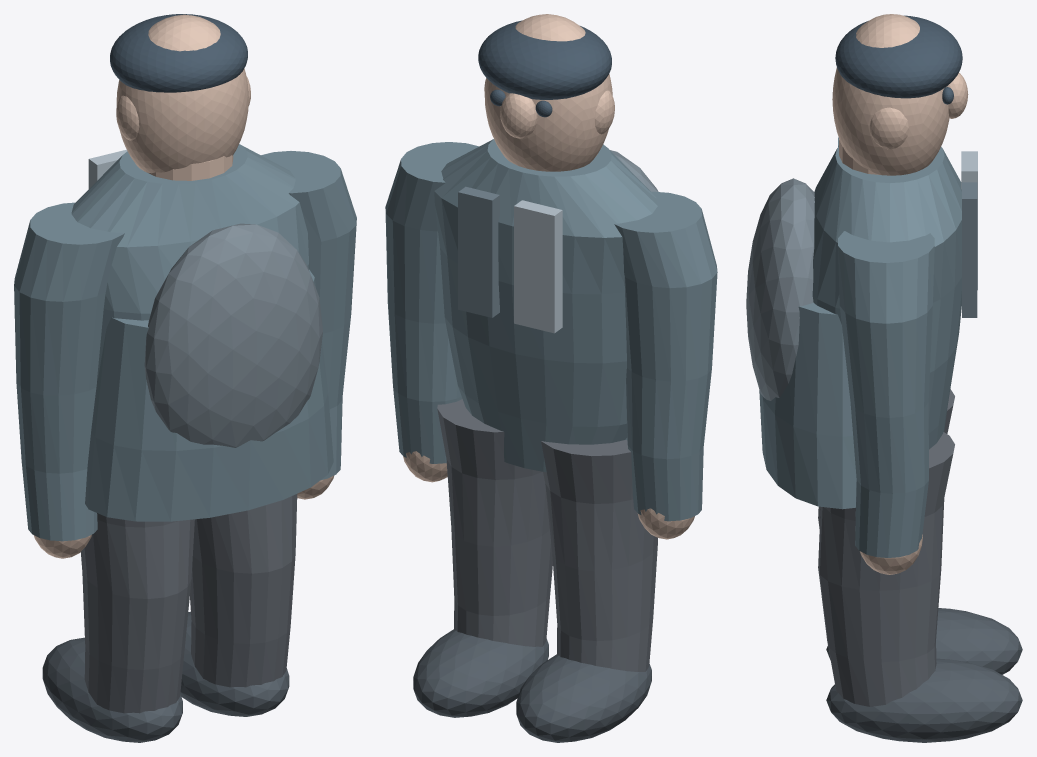
File: pedestrian_0.glb
3 views of the same model, side by side, from view 1: azimuth 30°, elevation 25°; view 2: azimuth 150°, elevation 25°; view 3: azimuth 270°, elevation 25° (orthographic). The views are drawn at different scales.
Parts seen in each view (by area): view 1: charcoal, coat-tail, arm_L, tailored-torso, leg_L, leg_R, skin1, arm_R, rubber, dark, alum; view 2: tailored-torso, arm_L, leg_L, leg_R, arm_R, rubber, skin1, dark, alum, frame; view 3: arm_R, leg_R, tailored-torso, coat-tail, rubber, skin1, charcoal, dark, frame, alum.
Boxes of the visible parts, x1,y1,x2,y2 form: charcoal: (144,223,322,447); coat-tail: (85,269,333,521); arm_L: (14,202,124,541); tailored-torso: (71,144,309,382); leg_L: (80,513,194,713); leg_R: (190,494,297,687); skin1: (33,14,333,558); arm_R: (261,151,356,479); rubber: (42,611,289,742); dark: (110,14,247,92); alum: (88,149,127,188); tailored-torso: (434,139,657,472); arm_L: (614,191,717,521); leg_L: (541,440,657,671); leg_R: (437,399,552,646); arm_R: (385,142,478,463); rubber: (413,629,651,742); skin1: (403,14,694,539); dark: (478,20,611,117); alum: (514,200,562,333); frame: (458,186,499,317); arm_R: (838,231,934,557); leg_R: (818,432,954,706); tailored-torso: (812,146,961,449); coat-tail: (759,303,856,509); rubber: (826,608,1022,742); skin1: (832,14,968,574); charcoal: (746,178,814,400); dark: (835,15,962,104); frame: (962,182,977,317); alum: (961,151,977,290).
Bounding box in the file's own units: 1.03 × 2.1 × 0.76.
